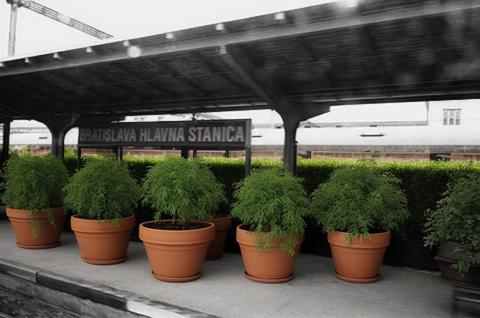pottedplant: (1, 145, 480, 283)
